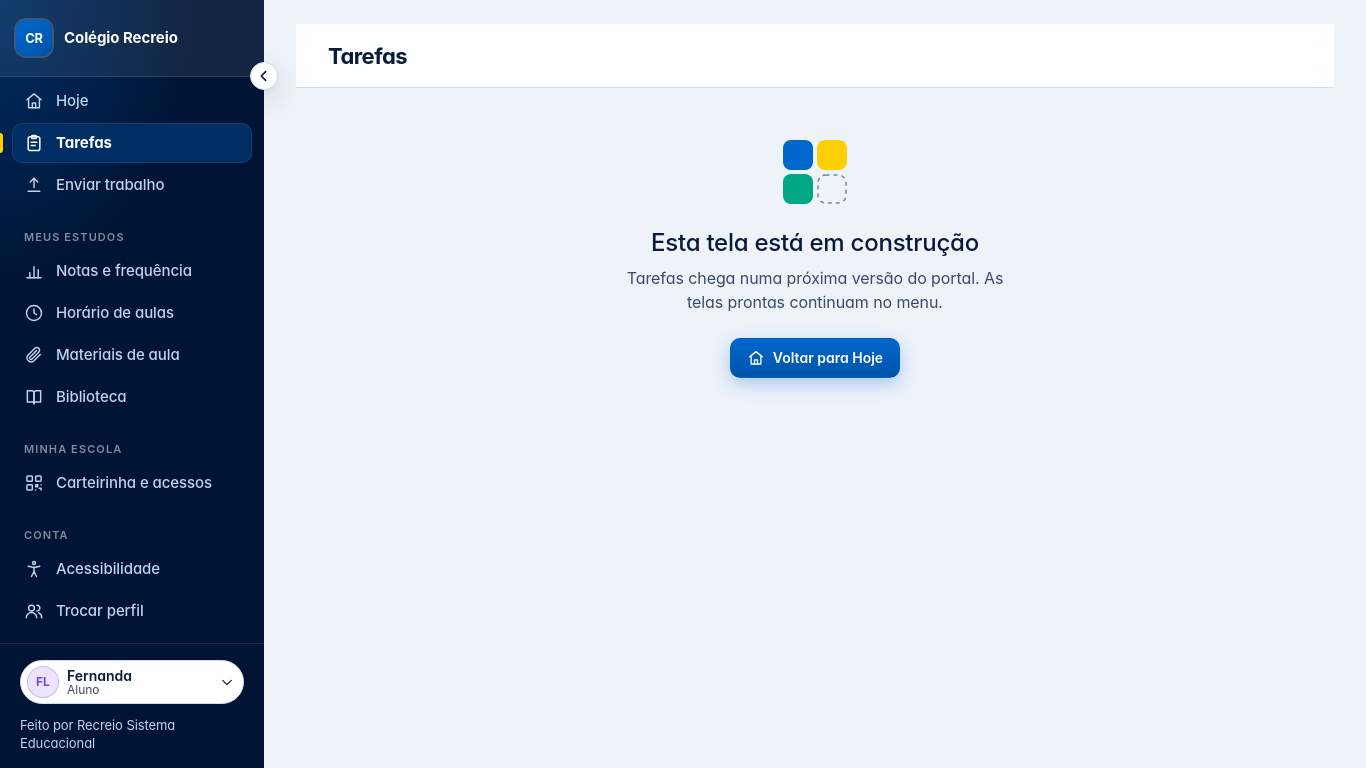
Test: EmConstrucaoPage › mostra o nome da tela e volta para a entrada do perfil
expect the heading "Tarefas" is shown: met, box top-left (328, 42), bottom-right (407, 70)
expect the heading "Esta tela está em construção" is shown: met, box top-left (651, 228), bottom-right (979, 258)
Step 1. Click the button "Voltar para Hoje" → click(815, 358), box top-left (730, 338), bottom-right (900, 378)
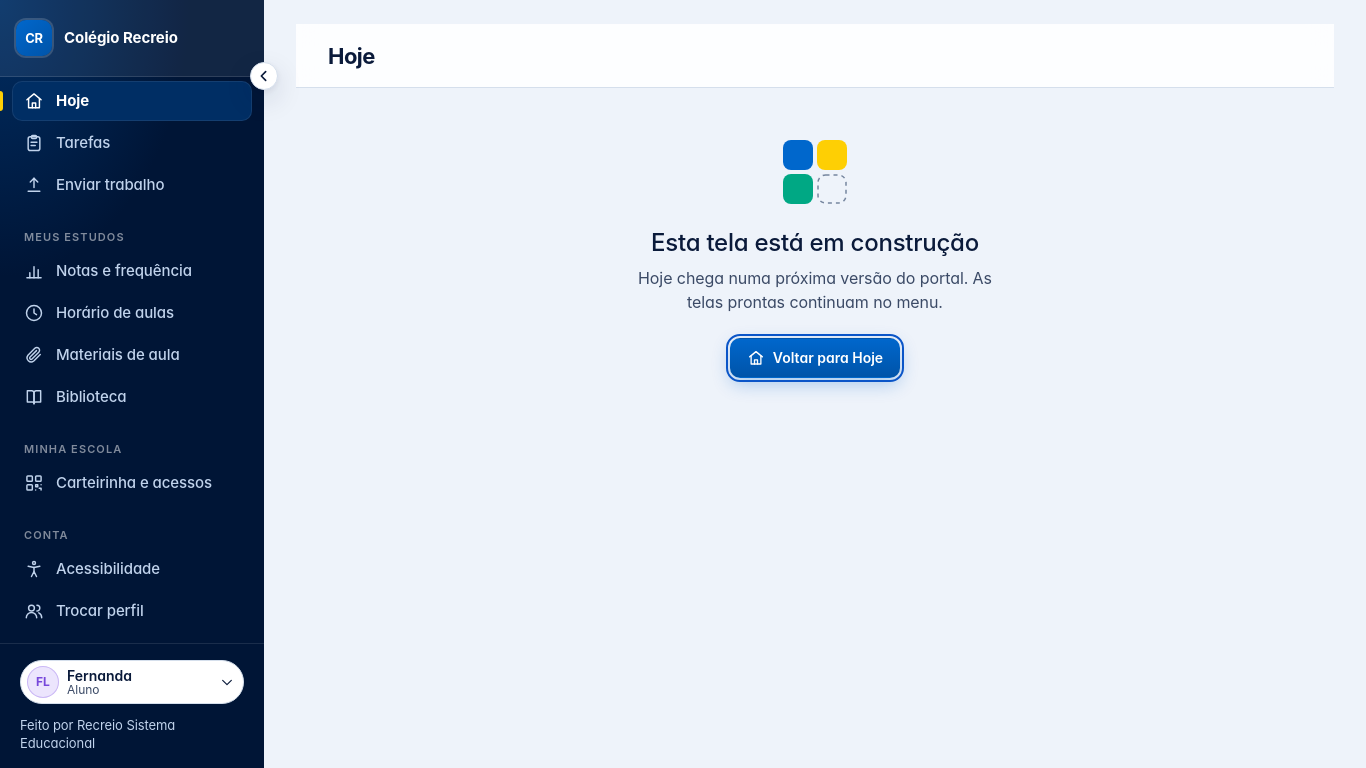
expect the heading "Hoje" is shown: met, box top-left (328, 42), bottom-right (375, 70)
